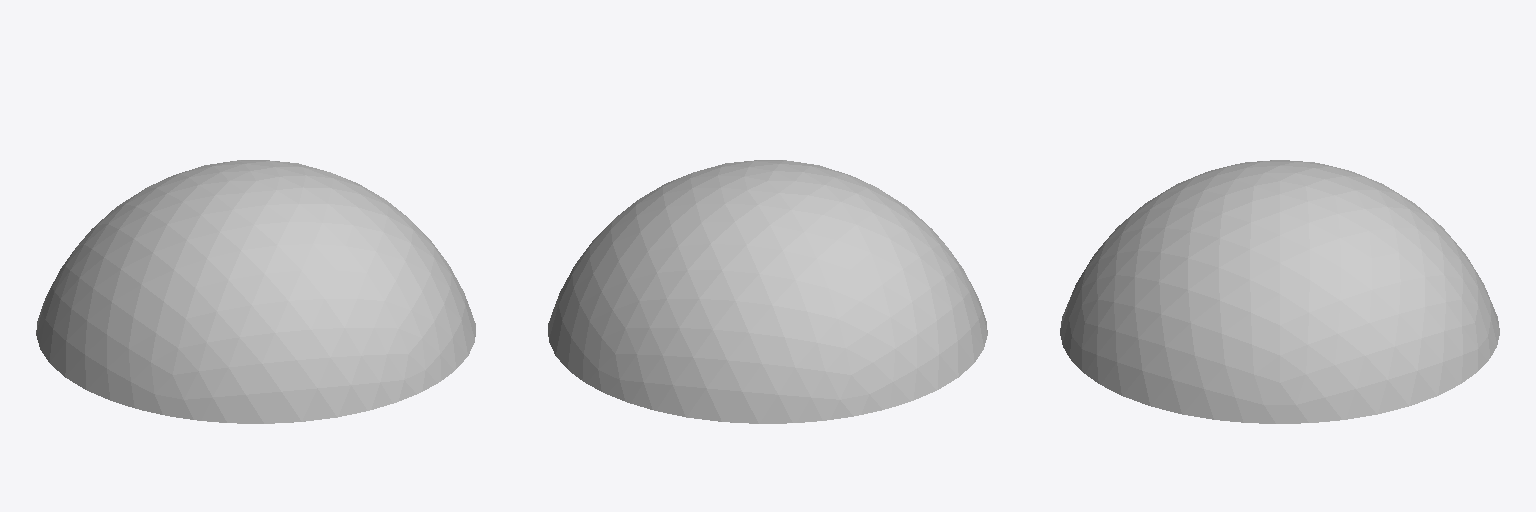
Rendered from HalfSphereRoof.obj.
The picture shows the model from 3 angles: view 1: azimuth 30°, elevation 25°; view 2: azimuth 150°, elevation 25°; view 3: azimuth 270°, elevation 25°; orthographic projection.
Parts seen in each view (by area): view 1: Icosphere.014; view 2: Icosphere.014; view 3: Icosphere.014.
Part boxes in pixels (bbox=[...]): Icosphere.014: bbox=[36, 160, 475, 423]; Icosphere.014: bbox=[548, 160, 987, 423]; Icosphere.014: bbox=[1060, 160, 1499, 423].
Bounding box in the file's own units: 5.64 × 2.12 × 5.64.